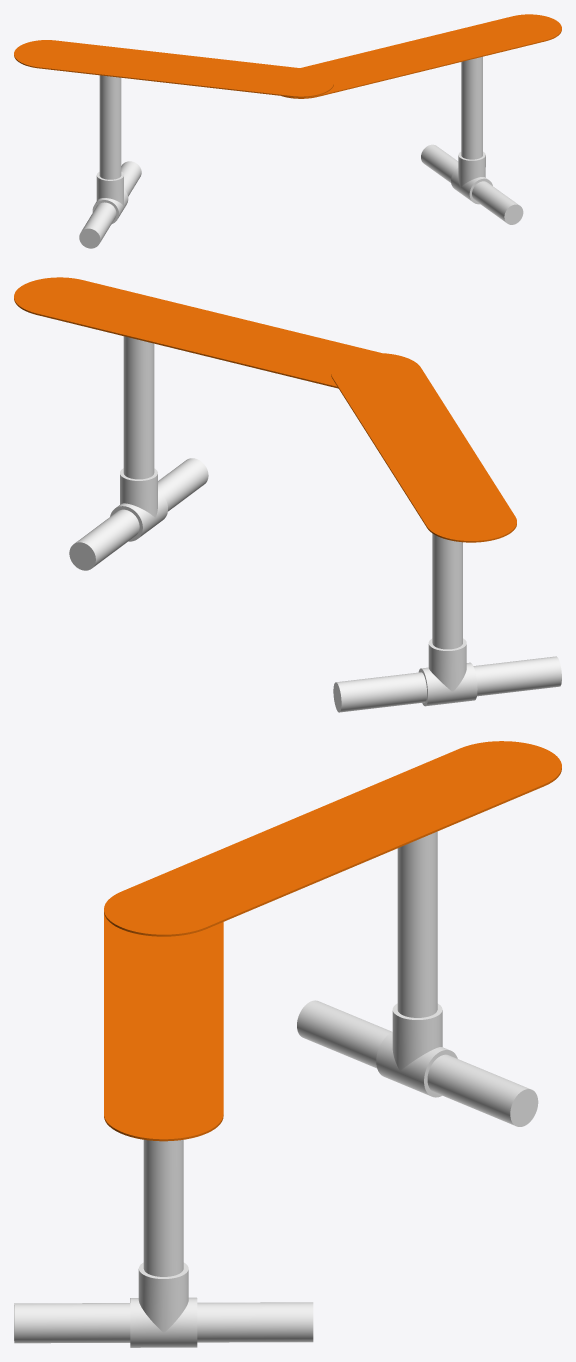
File: lane_marker_45right.dae
3 views of the same model, one above another, from view 1: azimuth 30°, elevation 25°; view 2: azimuth 150°, elevation 25°; view 3: azimuth 270°, elevation 25° (orthographic). The views are drawn at different scales.
Visible parts, largest first — view 1: to_marker, from_marker, to_leg, from_leg, from_foot, to_foot, from_T_joint, to_T_joint; view 2: to_marker, from_marker, to_foot, from_leg, from_foot, to_leg, to_T_joint, from_T_joint; view 3: to_marker, from_marker, from_foot, to_foot, to_leg, from_leg, from_T_joint, to_T_joint.
Part boxes in pixels (<box>): to_marker: <box>14,40,333,97</box>; from_marker: <box>282,14,561,98</box>; to_leg: <box>99,75,121,179</box>; from_leg: <box>461,56,482,159</box>; from_foot: <box>421,144,523,224</box>; to_foot: <box>79,161,141,248</box>; from_T_joint: <box>451,151,492,204</box>; to_T_joint: <box>92,172,128,223</box>; to_marker: <box>331,353,516,542</box>; from_marker: <box>14,277,380,388</box>; to_foot: <box>333,656,561,712</box>; from_leg: <box>123,336,154,479</box>; from_foot: <box>69,458,208,570</box>; to_leg: <box>432,533,462,649</box>; to_T_joint: <box>418,638,477,706</box>; from_T_joint: <box>110,468,167,541</box>; to_marker: <box>104,741,561,936</box>; from_marker: <box>104,914,223,1141</box>; from_foot: <box>14,1302,313,1343</box>; to_foot: <box>297,1000,538,1126</box>; to_leg: <box>397,831,437,1017</box>; from_leg: <box>143,1140,183,1276</box>; from_T_joint: <box>130,1262,197,1347</box>; to_T_joint: <box>376,1003,457,1097</box>.
Size of the model in its own units: 1.19 by 0.6979 by 0.3994.
